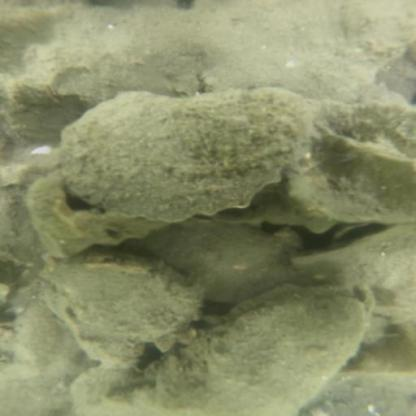Oyster- Indeterminate: (158, 286, 376, 409)
Oyster-Closed: (57, 88, 316, 224), (283, 101, 416, 224), (44, 256, 202, 358), (140, 221, 293, 301), (295, 226, 415, 316)
